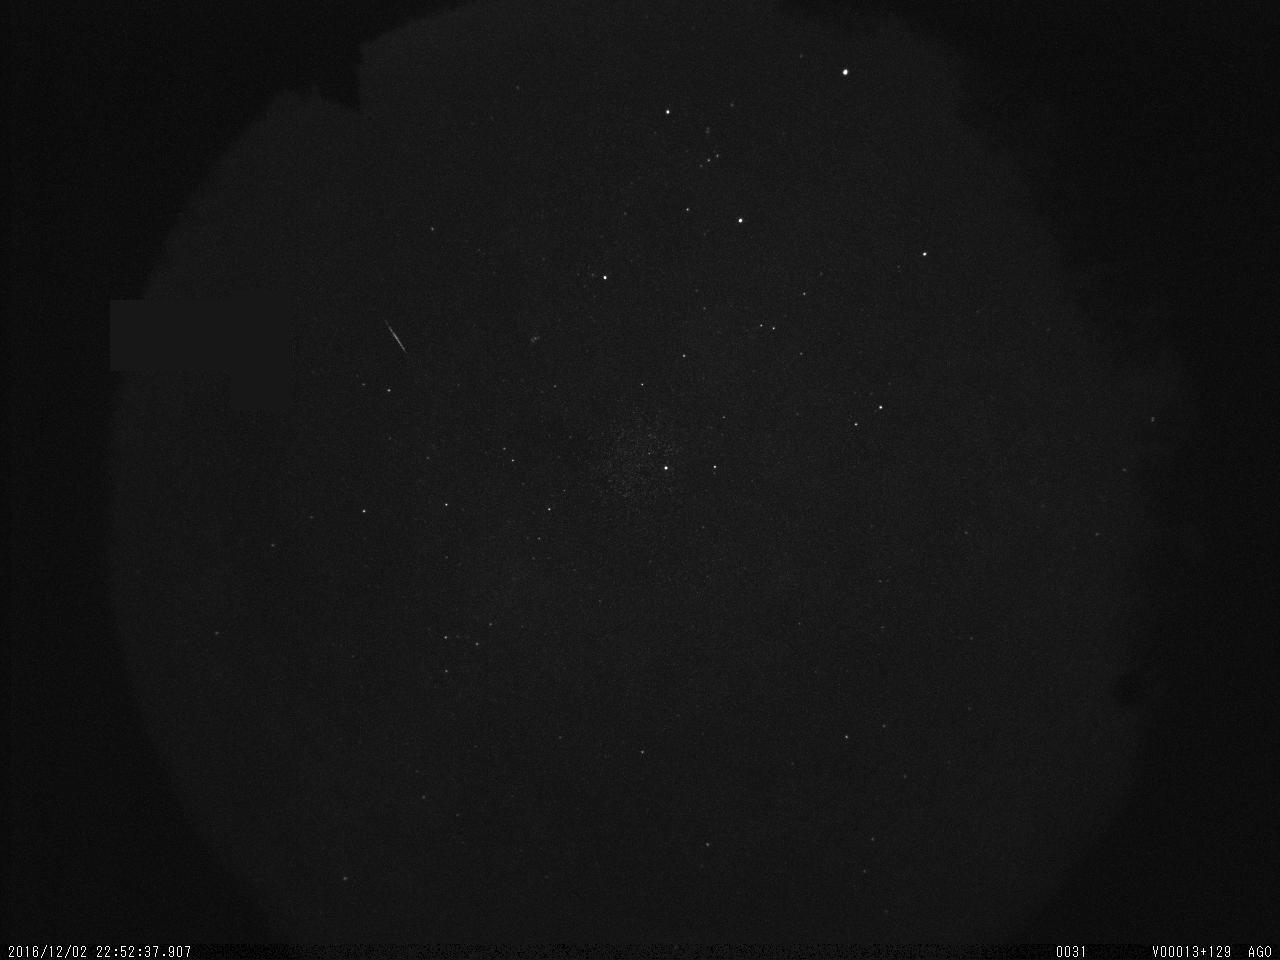meteor: (378, 317, 421, 366)
